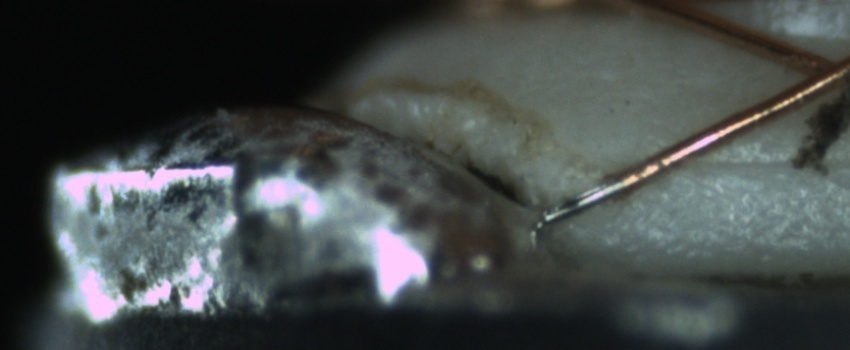CL: (771, 36, 849, 108)
DL: (675, 131, 850, 200)
TS: (537, 177, 623, 228)
